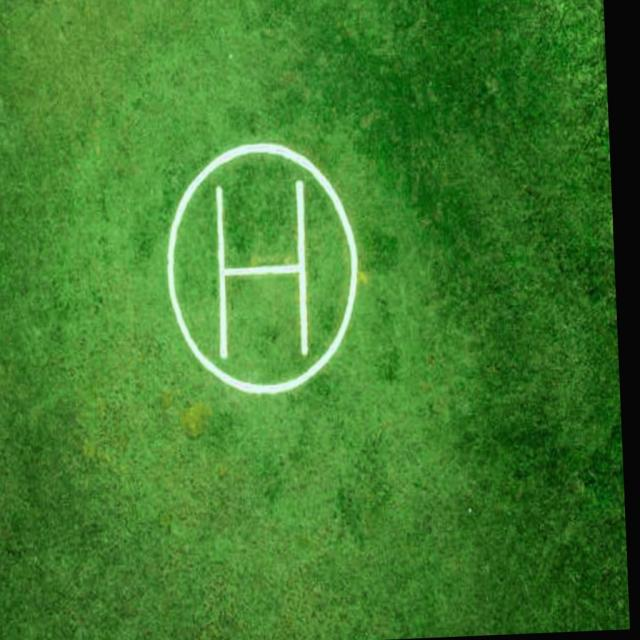helipad: (159, 136, 361, 398)
